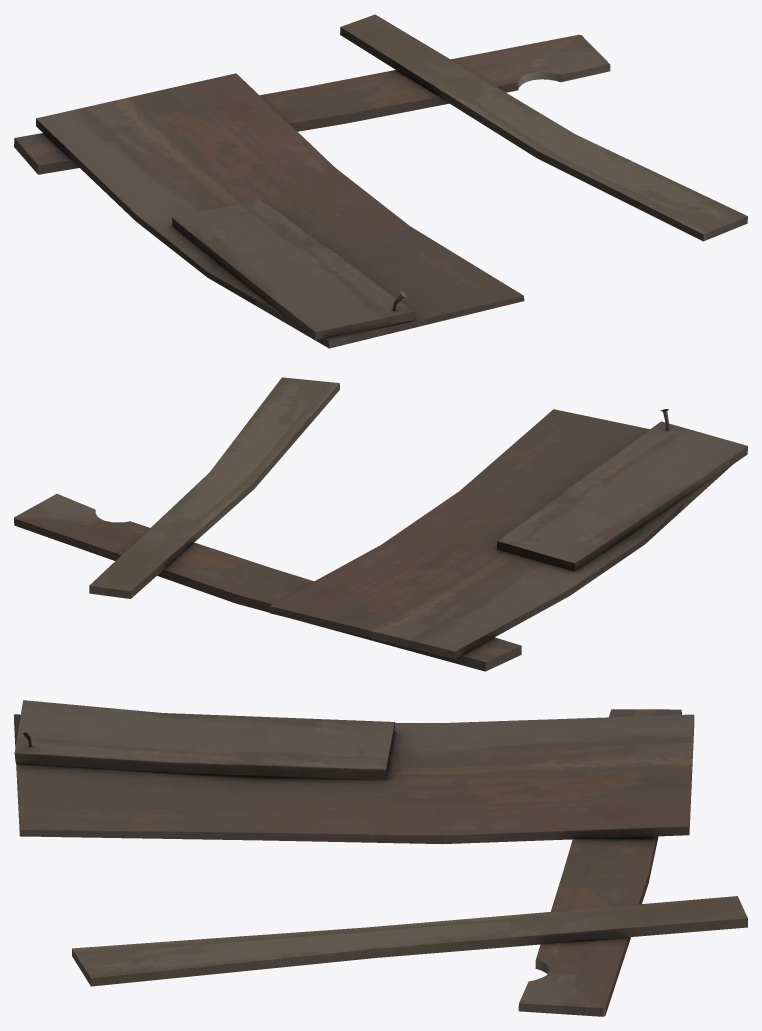
File: props_coalmines_wood_debris4.glb
3 renders of one model, top to bottom at view 1: azimuth 30°, elevation 25°; view 2: azimuth 150°, elevation 25°; view 3: azimuth 270°, elevation 25°, orthographic. The views are drawn at different scales.
Parts seen in each view (by area): view 1: models/props_coalmines/wood_debris4; view 2: models/props_coalmines/wood_debris4; view 3: models/props_coalmines/wood_debris4.
Part boxes in pixels (x1,y1,x2,y2): models/props_coalmines/wood_debris4: (14, 14, 747, 348); models/props_coalmines/wood_debris4: (14, 377, 747, 671); models/props_coalmines/wood_debris4: (14, 700, 747, 1016).
Size of the model in its own units: 121 by 10.65 by 125.
1 material, 1 textured.
